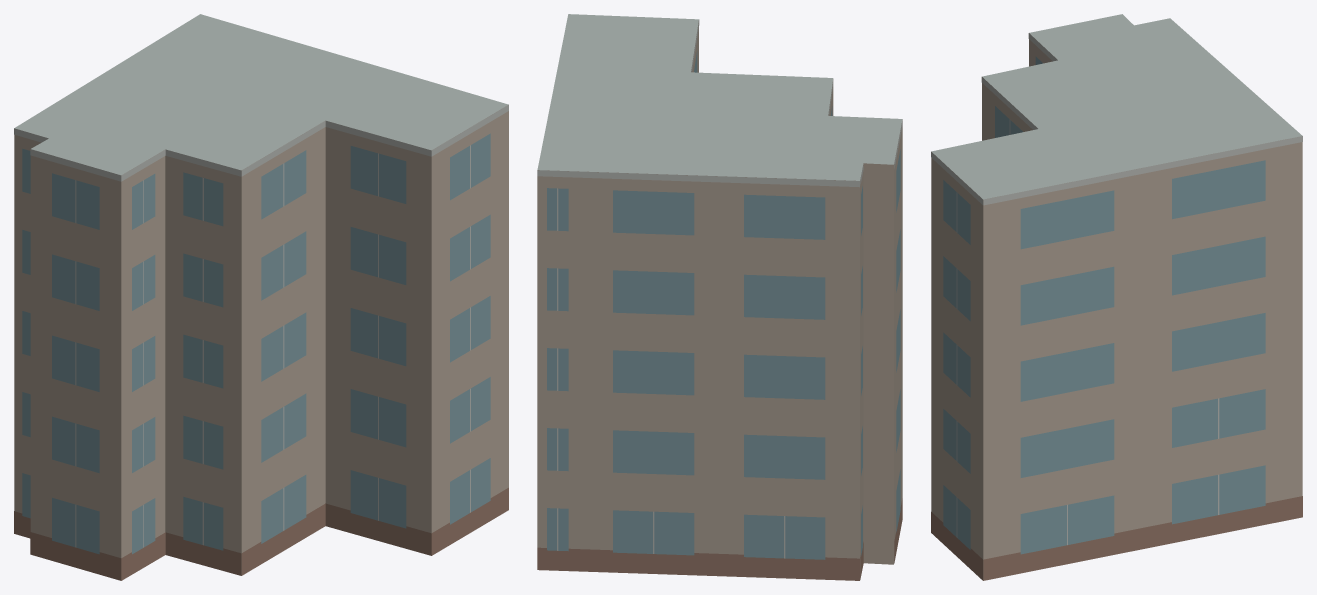
Rendered from survey-upis-32492049.glb.
3 views of the same model, side by side, from view 1: azimuth 30°, elevation 25°; view 2: azimuth 150°, elevation 25°; view 3: azimuth 270°, elevation 25° (orthographic). The views are drawn at different scales.
Parts seen in each view (by area): view 1: survey-upis-32492049.tmp; view 2: survey-upis-32492049.tmp; view 3: survey-upis-32492049.tmp.
Part boxes in pixels (left/top/right/bottom): survey-upis-32492049.tmp: left=14, top=14, right=508, bottom=580; survey-upis-32492049.tmp: left=537, top=14, right=902, bottom=580; survey-upis-32492049.tmp: left=931, top=14, right=1302, bottom=580.
Size of the model in its own units: 16.29 by 15.6 by 13.79.
